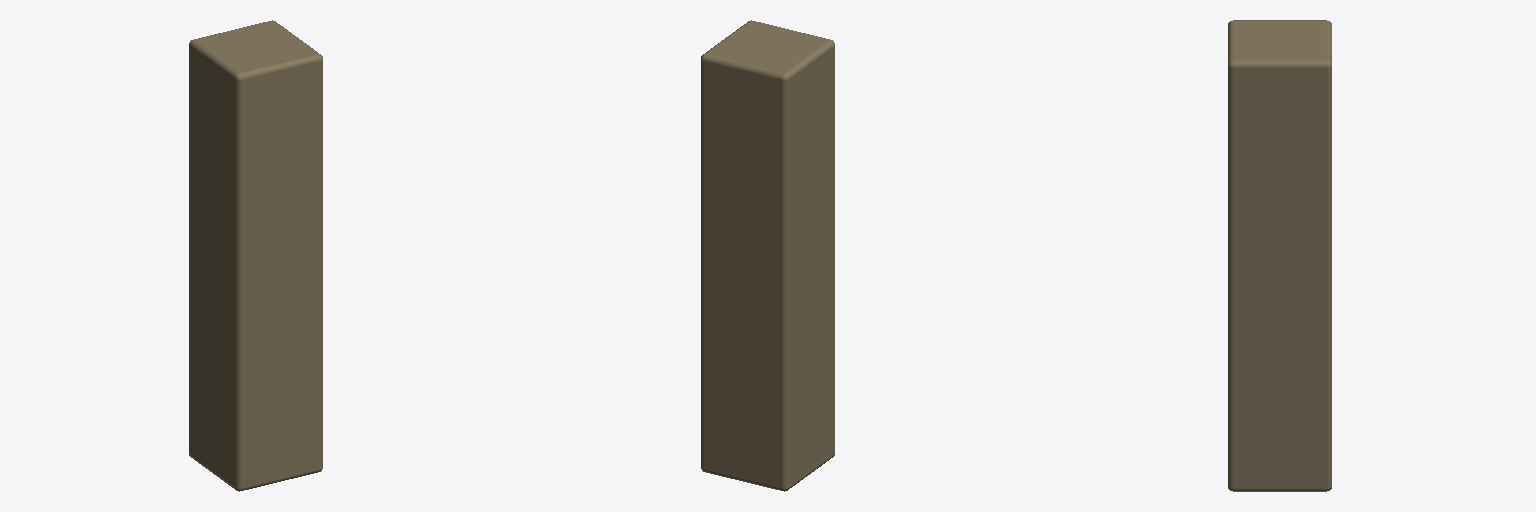
The robot description file, URDF, robot "rectangular_solid":
<?xml version="1.0"?>
<robot name="rectangular_solid">
  <link name="base_link">
    <visual>
      <origin xyz="0 0 0" rpy="0 0 0" />
      <geometry>
        <mesh filename="rectangular_solid.obj"/>      
      </geometry>
      <material name="tan">
        <color rgba="0.55 0.5 0.4 1"/>
      </material>
    </visual>
    <collision>
      <origin xyz="0 0 0" rpy="0 0 0" />
      <geometry>
        <mesh filename="rectangular_solid.obj"/>
      </geometry>
    </collision>
  </link>
</robot>

--- Facts derived from the render (not from the file) ---
The picture shows the robot from 3 angles, left to right: view 1: azimuth 30°, elevation 25°; view 2: azimuth 150°, elevation 25°; view 3: azimuth 270°, elevation 25°; orthographic projection.
Model rectangular_solid with 1 links and 0 joints (none), rooted at base_link, posed every joint at zero.
Links seen in each view (by area): view 1: base_link; view 2: base_link; view 3: base_link.
Boxes of the visible links, left/top/right/bottom form: base_link: left=189, top=20, right=322, bottom=491; base_link: left=701, top=20, right=834, bottom=491; base_link: left=1228, top=20, right=1331, bottom=491.
Bounding box of the posed robot: 13.97 × 13.97 × 63.5 m (x, y, z).
1 mesh visuals loaded from 1 distinct referenced files (1 OBJ).
